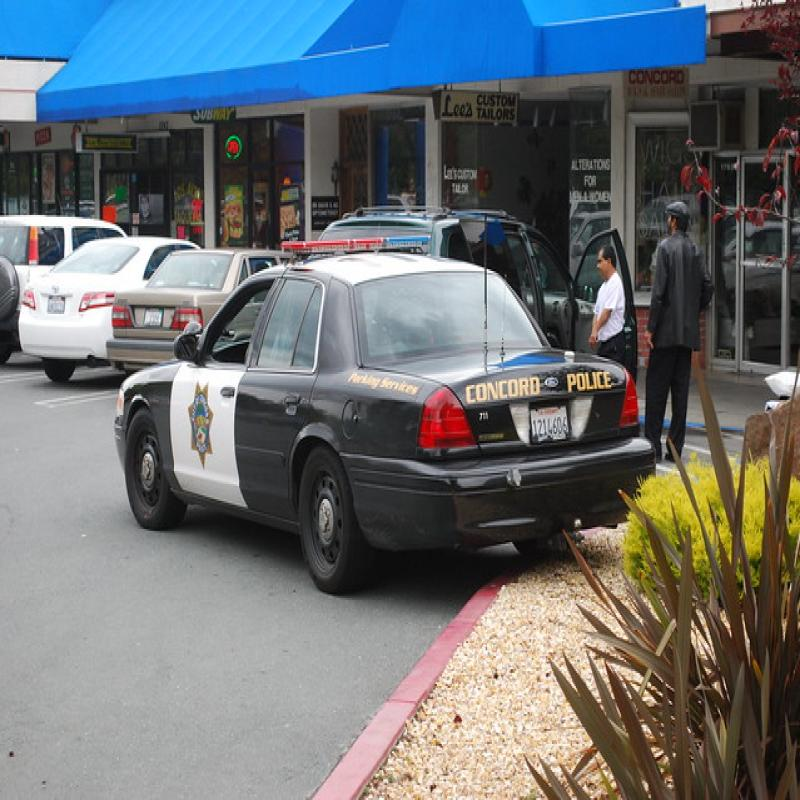AmbulanceSiren: (279, 210, 441, 274)
